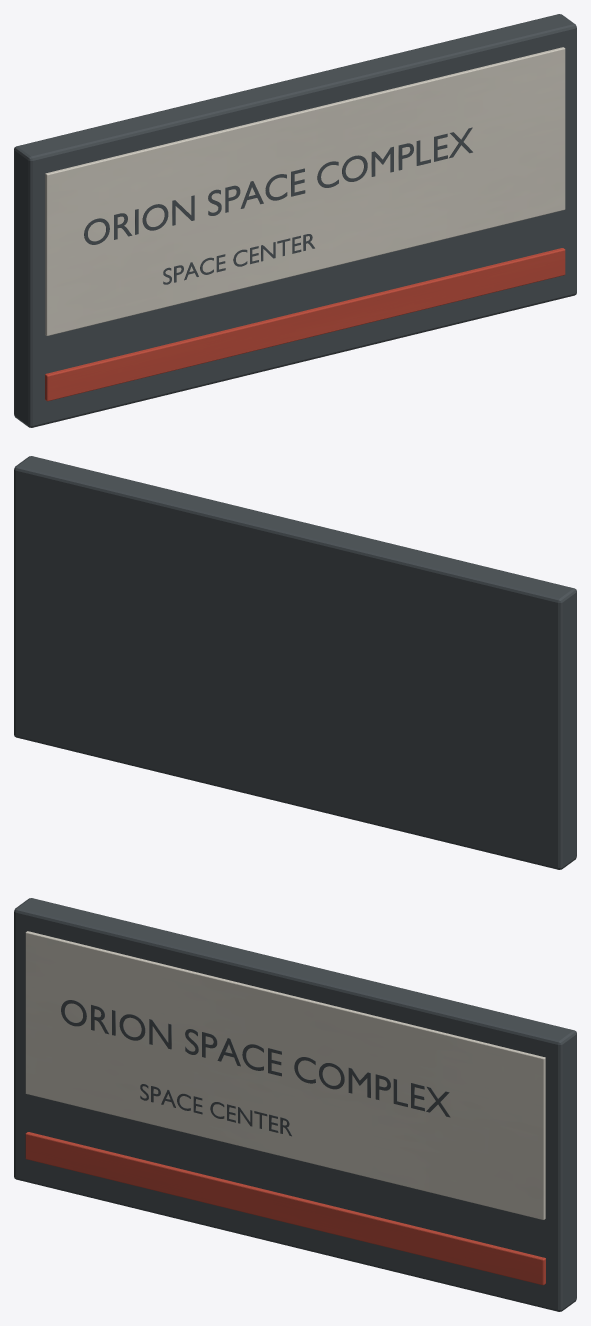
The model's file is complex_exterior_sign.glb.
3 views of the same model, one above another, from view 1: azimuth 30°, elevation 25°; view 2: azimuth 150°, elevation 25°; view 3: azimuth 330°, elevation 25° (orthographic).
Visible parts, largest first — view 1: SignFace, SignBody, AccentStripe, LABEL_ORION_SPACE_COMPLEX, LABEL_SPACE_CENTER; view 2: SignBody; view 3: SignFace, SignBody, AccentStripe, LABEL_ORION_SPACE_COMPLEX, LABEL_SPACE_CENTER.
Part boxes in pixels (bbox=[...]): SignFace: bbox=[45, 47, 565, 335]; SignBody: bbox=[14, 14, 576, 427]; AccentStripe: bbox=[45, 248, 565, 401]; LABEL_ORION_SPACE_COMPLEX: bbox=[84, 127, 472, 244]; LABEL_SPACE_CENTER: bbox=[163, 234, 314, 284]; SignBody: bbox=[14, 456, 576, 869]; SignFace: bbox=[25, 931, 545, 1219]; SignBody: bbox=[14, 898, 576, 1311]; AccentStripe: bbox=[25, 1132, 545, 1285]; LABEL_ORION_SPACE_COMPLEX: bbox=[61, 1000, 450, 1117]; LABEL_SPACE_CENTER: bbox=[140, 1084, 291, 1136].
Size of the model in its own units: 2.2 by 1.04 by 0.1408.
Materials: 3 (2 with a texture image).
